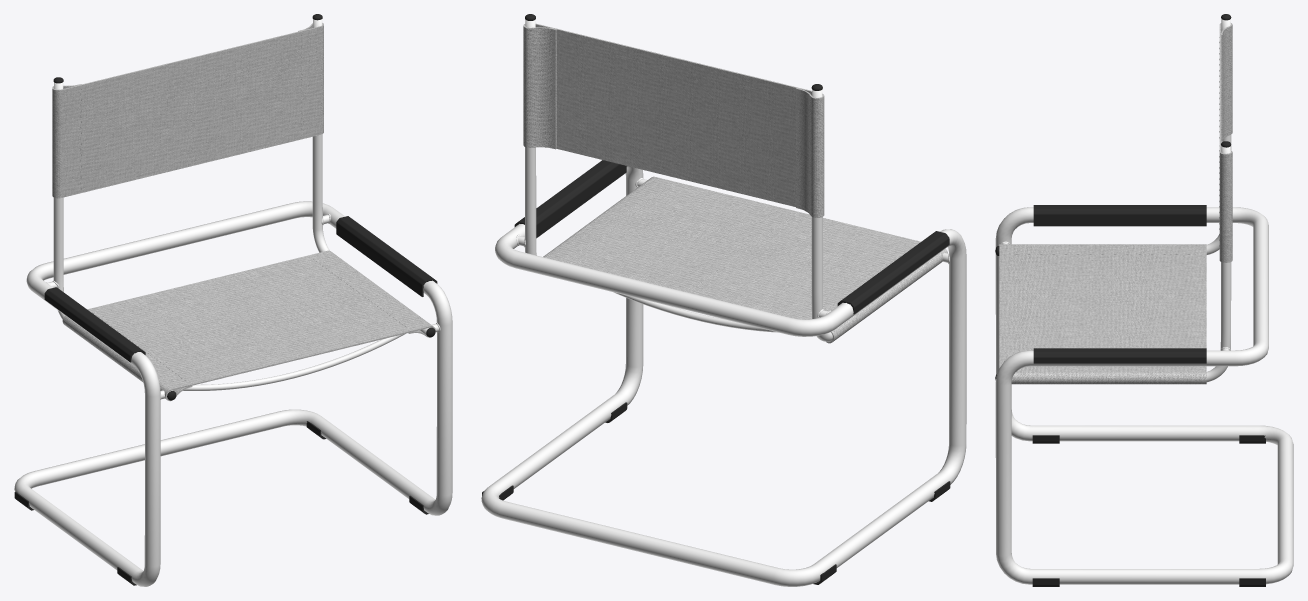
File: ToskaOfficeChair_blender.glb
3 renders of one model, left to right at view 1: azimuth 30°, elevation 25°; view 2: azimuth 150°, elevation 25°; view 3: azimuth 270°, elevation 25°, orthographic. The views are drawn at different scales.
Parts seen in each view (by area): view 1: Object; view 2: Object; view 3: Object.
Part boxes in pixels (x1=…): Object: x1=14, y1=14, x2=452, y2=586; Object: x1=481, y1=14, x2=966, y2=586; Object: x1=995, y1=14, x2=1293, y2=586.
Size of the model in its own units: 0.6749 by 0.9084 by 0.5642.
3 materials, 1 textured.
